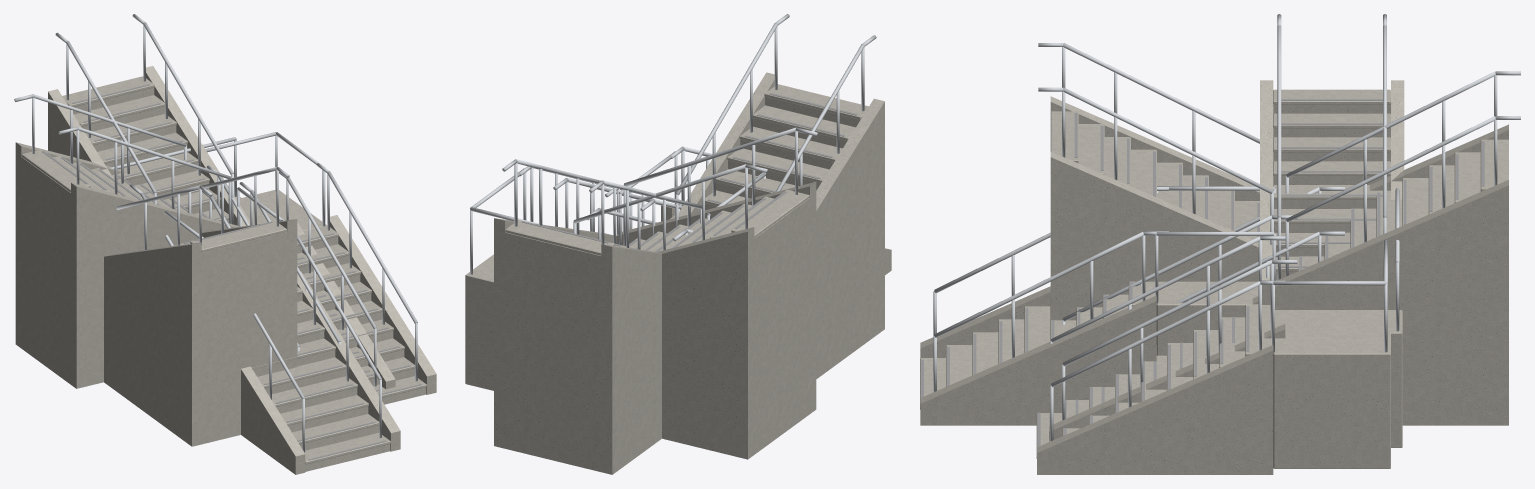
Rendered from ST20-realistic.glb.
3 views of the same model, side by side, from view 1: azimuth 30°, elevation 25°; view 2: azimuth 150°, elevation 25°; view 3: azimuth 270°, elevation 25° (orthographic). The views are drawn at different scales.
Visible parts, largest first — view 1: stair__ST20__L__realistic, stair__ST20__U__realistic, stair__ST20__straight-landing__realistic, stair__ST20__straight__realistic; view 2: stair__ST20__L__realistic, stair__ST20__straight-landing__realistic, stair__ST20__U__realistic; view 3: stair__ST20__straight-landing__realistic, stair__ST20__L__realistic, stair__ST20__U__realistic, stair__ST20__straight__realistic.
Boxes of the visible parts, bbox=[...] form: stair__ST20__L__realistic: bbox=[14, 94, 436, 404]; stair__ST20__U__realistic: bbox=[104, 137, 395, 446]; stair__ST20__straight-landing__realistic: bbox=[48, 14, 400, 474]; stair__ST20__straight__realistic: bbox=[129, 165, 249, 246]; stair__ST20__L__realistic: bbox=[465, 127, 817, 459]; stair__ST20__straight-landing__realistic: bbox=[494, 146, 891, 474]; stair__ST20__U__realistic: bbox=[553, 14, 884, 378]; stair__ST20__straight-landing__realistic: bbox=[920, 71, 1520, 425]; stair__ST20__L__realistic: bbox=[1036, 14, 1404, 474]; stair__ST20__U__realistic: bbox=[1038, 43, 1402, 447]; stair__ST20__straight__realistic: bbox=[1177, 187, 1344, 302].
Bounding box in the file's own units: 4.5 × 3.97 × 7.17.
Materials: 3 (1 with a texture image).
